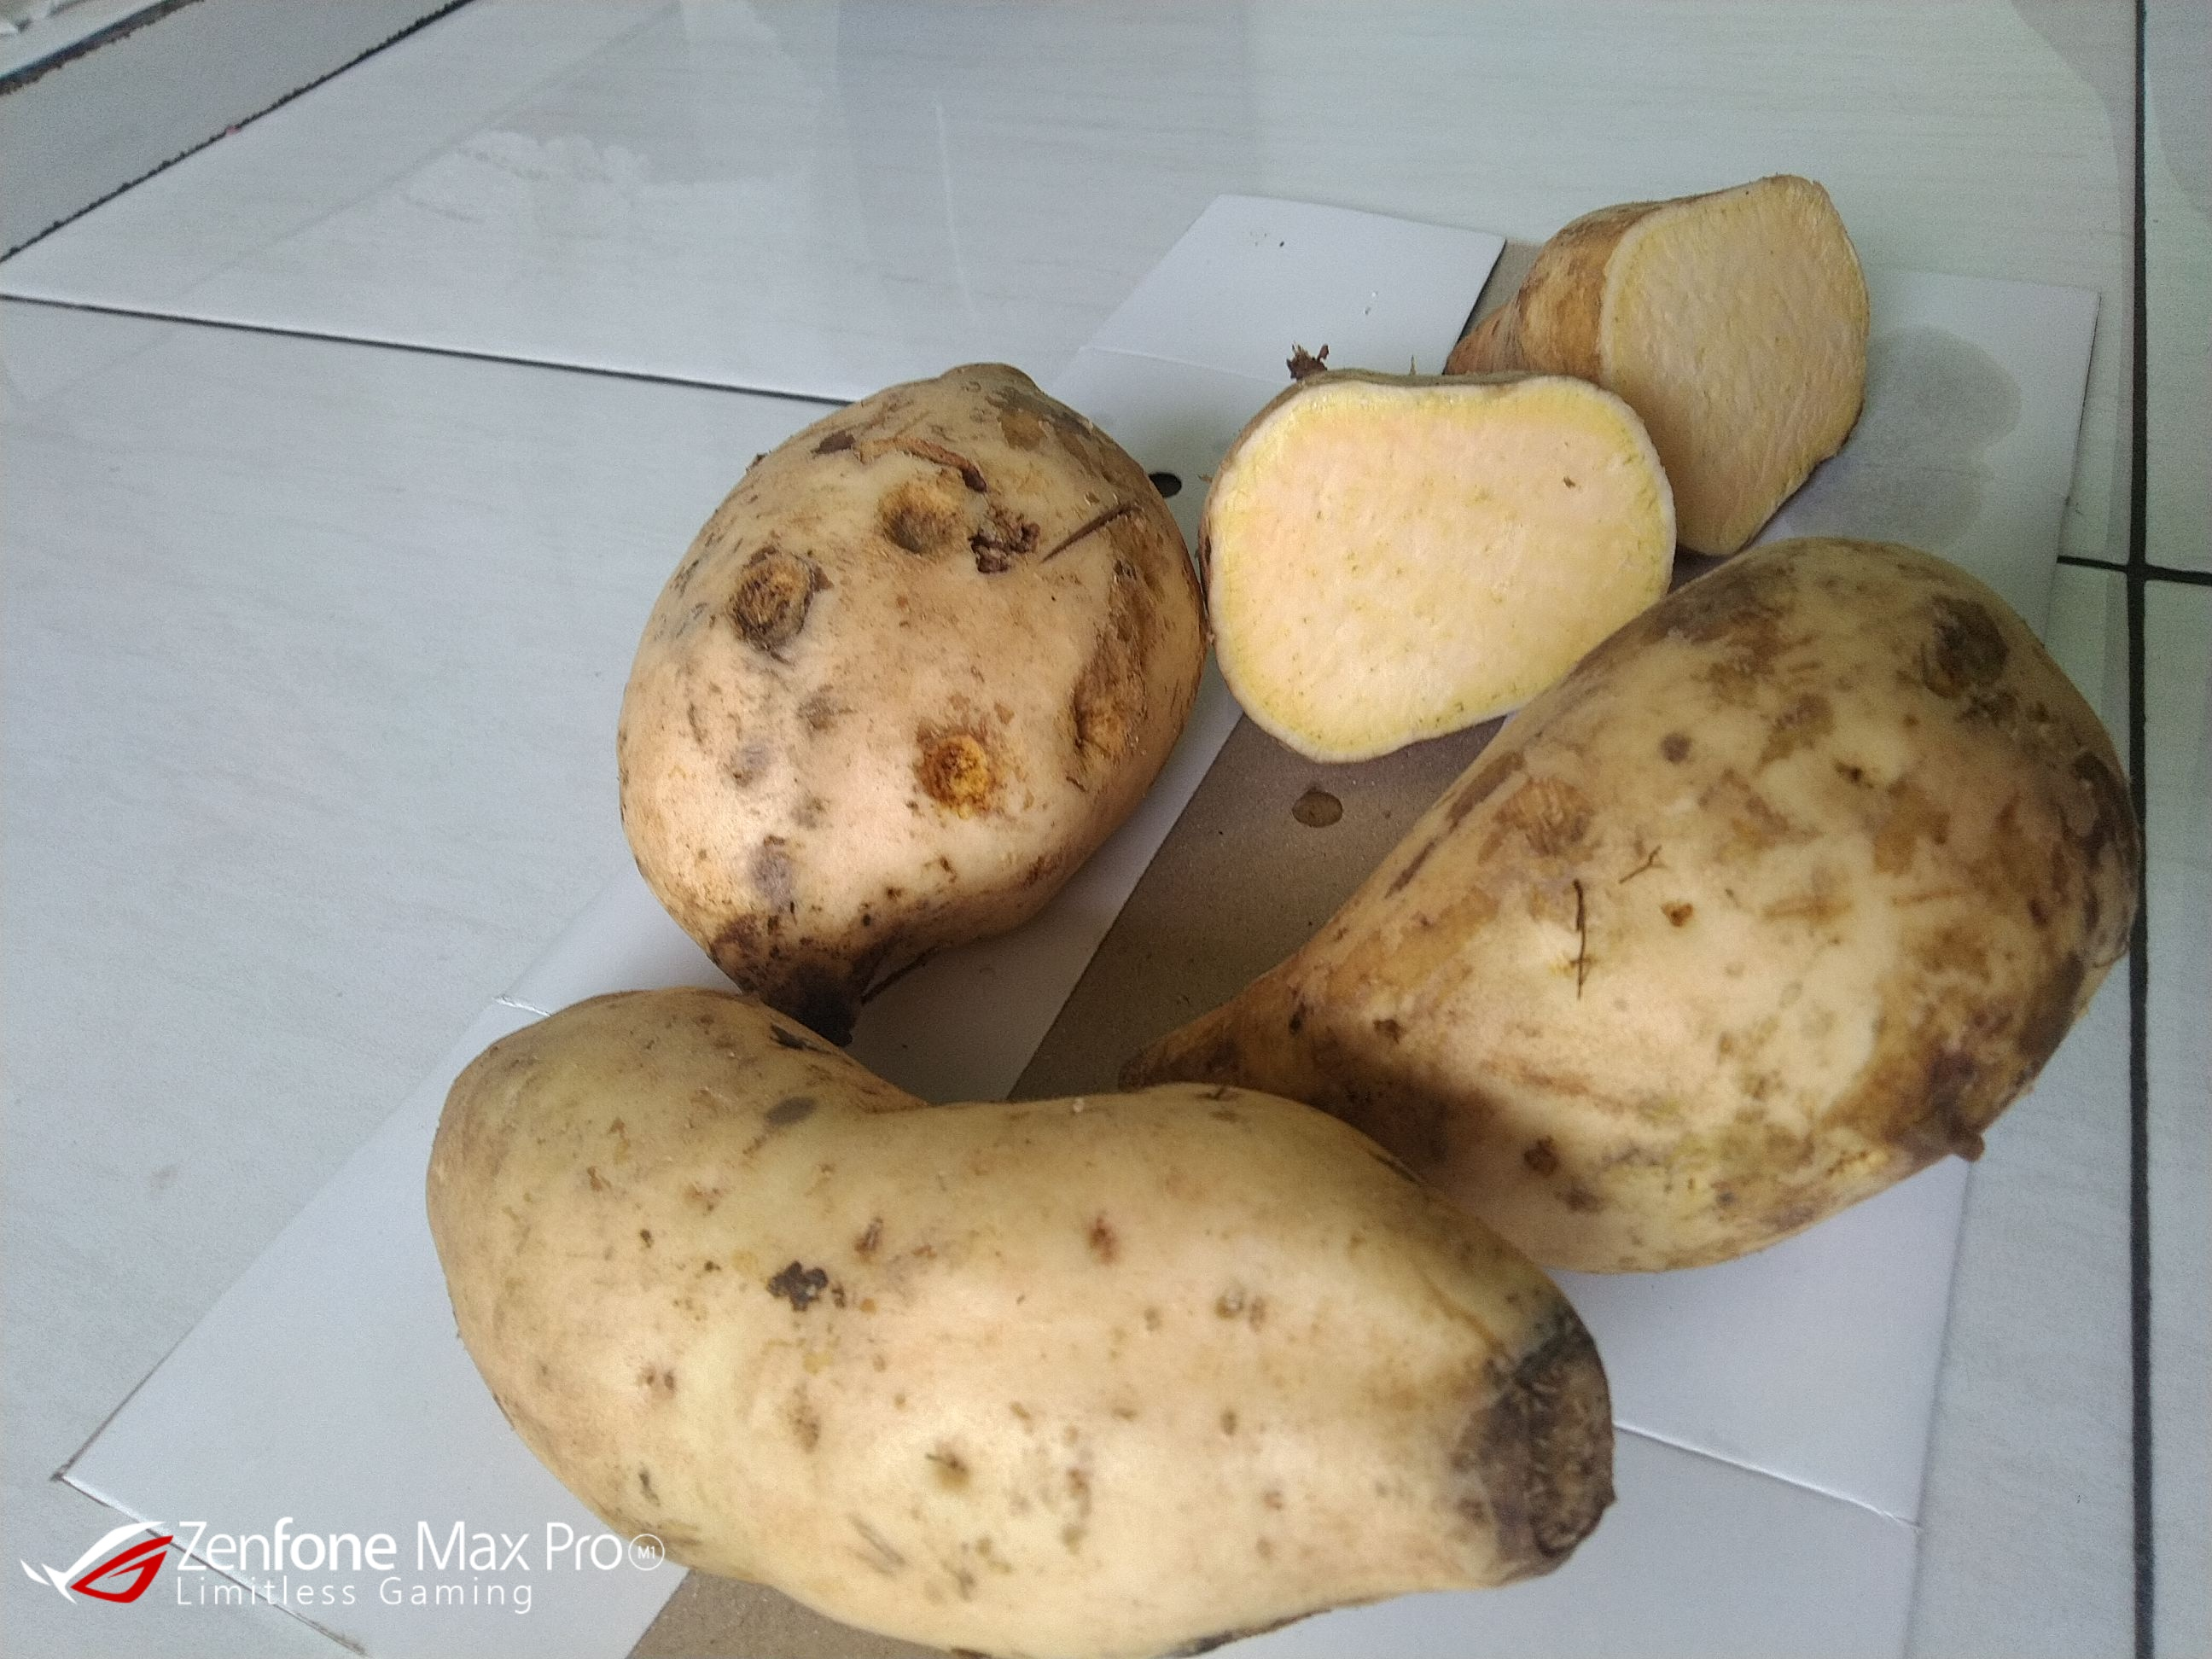ubi kuning: (409, 974, 1637, 1659), (1083, 540, 2144, 1270), (604, 352, 1209, 1037), (1205, 171, 1883, 748), (1177, 352, 1686, 775), (1428, 171, 1871, 552)
